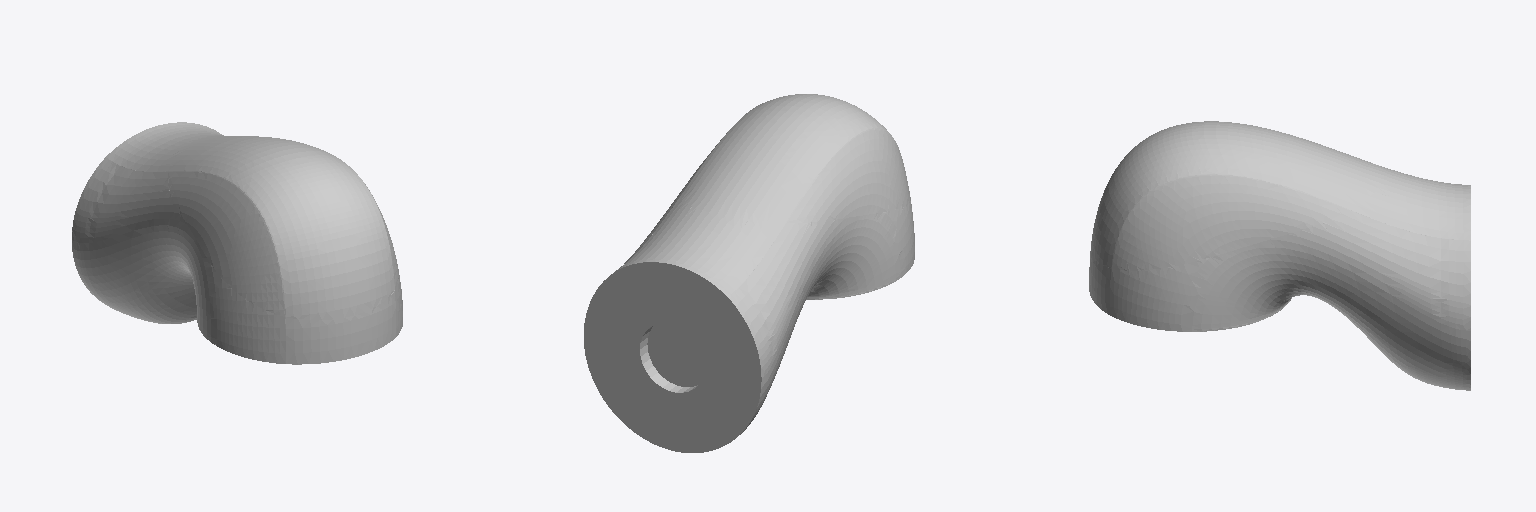
File: lbr_iiwa_14_r820_part_5.obj
The picture shows the model from 3 angles: view 1: azimuth 30°, elevation 25°; view 2: azimuth 150°, elevation 25°; view 3: azimuth 270°, elevation 25°; orthographic projection.
Parts seen in each view (by area): view 1: mesh 1 LBR IIWA 14 R820.sldasm-Part-5; view 2: mesh 1 LBR IIWA 14 R820.sldasm-Part-5; view 3: mesh 1 LBR IIWA 14 R820.sldasm-Part-5.
Boxes of the visible parts, x1=… form: mesh 1 LBR IIWA 14 R820.sldasm-Part-5: x1=72, y1=122, x2=402, y2=364; mesh 1 LBR IIWA 14 R820.sldasm-Part-5: x1=584, y1=94, x2=914, y2=452; mesh 1 LBR IIWA 14 R820.sldasm-Part-5: x1=1089, y1=121, x2=1470, y2=390.
Bounding box in the file's own units: 0.136 × 0.1826 × 0.2525.